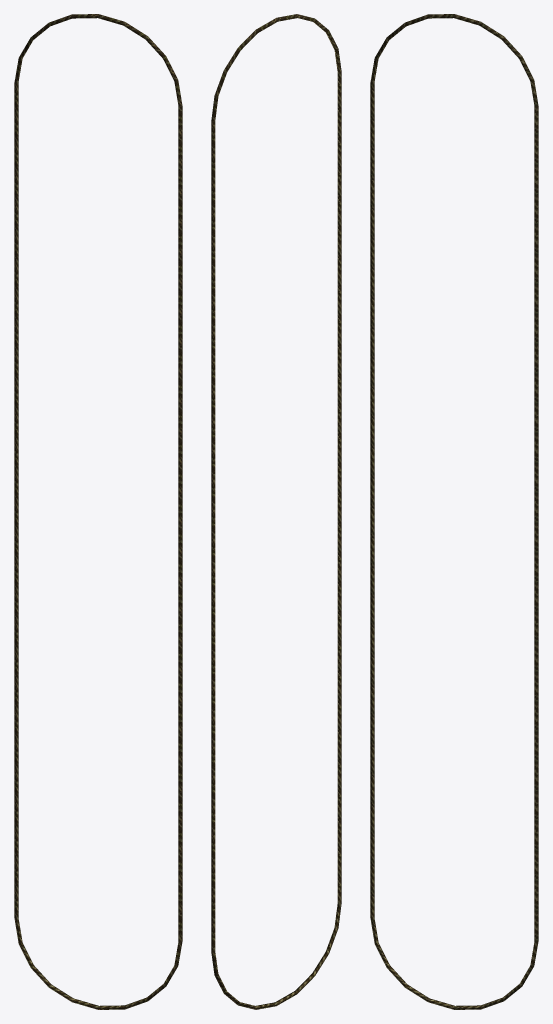
Rendered from SWORDLIGHT20_MAINCAVROPE01ELEV07.obj.
The picture shows the model from 3 angles, left to right: view 1: azimuth 90°, elevation 25°; view 2: azimuth 150°, elevation 25°; view 3: azimuth 270°, elevation 25°; orthographic projection.
Visible parts, largest first — view 1: cavRope01Elev07; view 2: cavRope01Elev07; view 3: cavRope01Elev07.
Part boxes in pixels (x1,y1,x2,y2): cavRope01Elev07: [14, 14, 182, 1009]; cavRope01Elev07: [211, 14, 341, 1009]; cavRope01Elev07: [370, 14, 538, 1009].
Size of the model in its own units: 86.01 by 1669 by 255.
